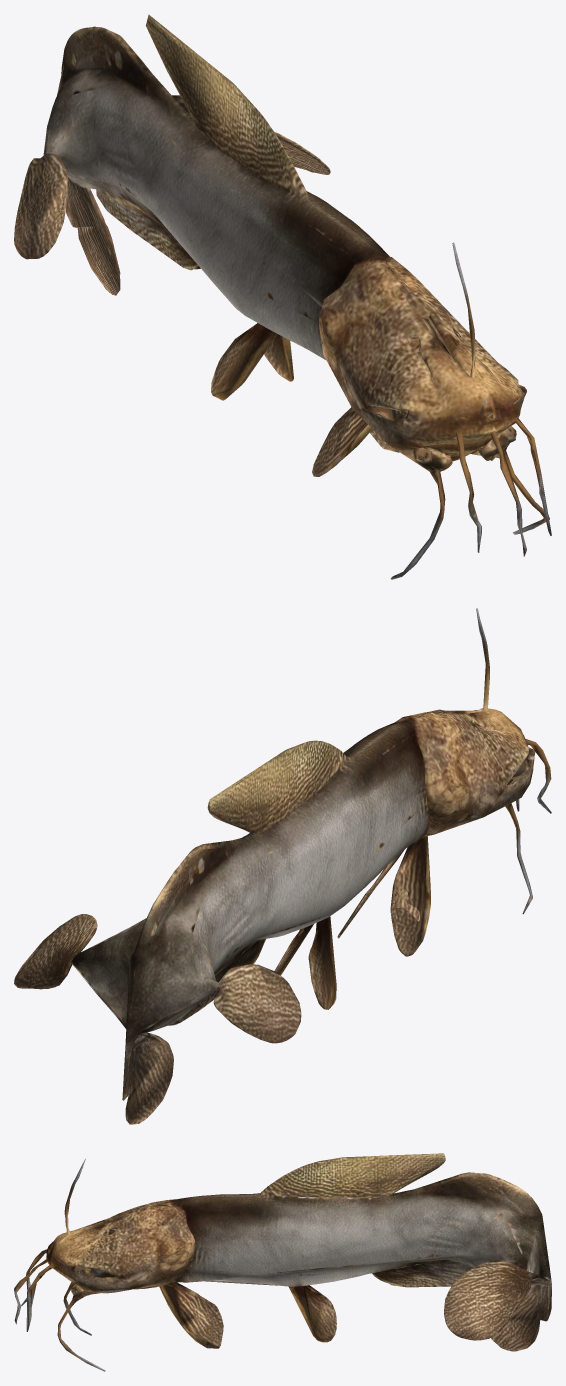
File: vundu.glb
3 views of the same model, one above another, from view 1: azimuth 30°, elevation 25°; view 2: azimuth 150°, elevation 25°; view 3: azimuth 270°, elevation 25° (orthographic). The views are drawn at different scales.
Visible parts, largest first — view 1: geometry_0; view 2: geometry_0; view 3: geometry_0.
Boxes of the visible parts, x1,y1,x2,y2 form: geometry_0: (14, 14, 551, 579); geometry_0: (14, 608, 551, 1124); geometry_0: (14, 1153, 551, 1371).
Bounding box in the file's own units: 0.3825 × 0.4056 × 0.9987.
Materials: 1 (1 with a texture image).
